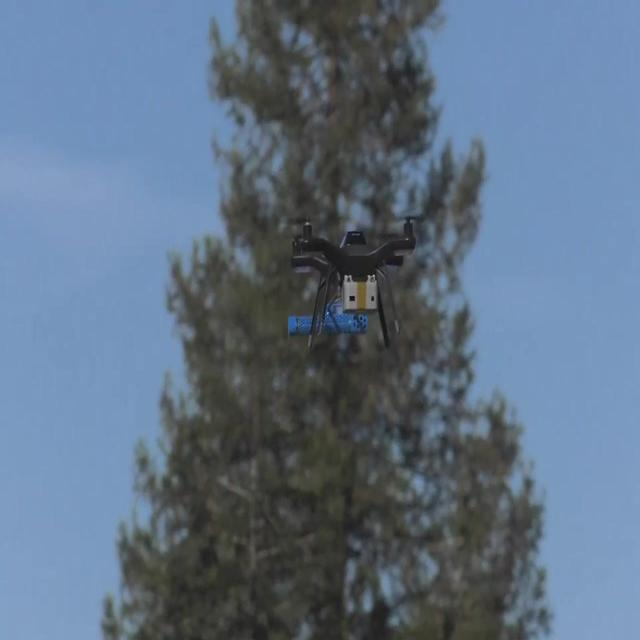drone: (284, 205, 426, 356)
